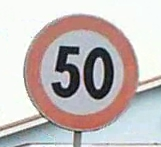limite 50: (23, 14, 137, 130)
